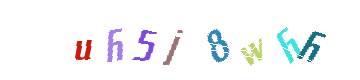5: (105, 0, 185, 80)
8: (138, 0, 218, 80)
H: (104, 0, 184, 80), (224, 0, 304, 80), (246, 0, 326, 80)
J: (121, 0, 201, 80)
U: (43, 0, 123, 80)
W: (205, 0, 285, 80)
